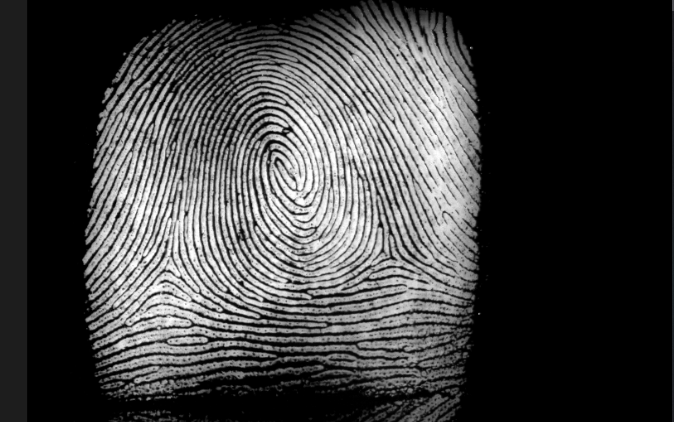deltas: (141, 245, 204, 303), (367, 220, 417, 277)
nucleo: (234, 129, 321, 208)
